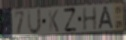7: (14, 10, 26, 36)
A: (97, 5, 115, 30)
H: (82, 6, 98, 32)
K: (48, 9, 60, 33)
U: (27, 8, 42, 36)
Z: (63, 7, 78, 33)
